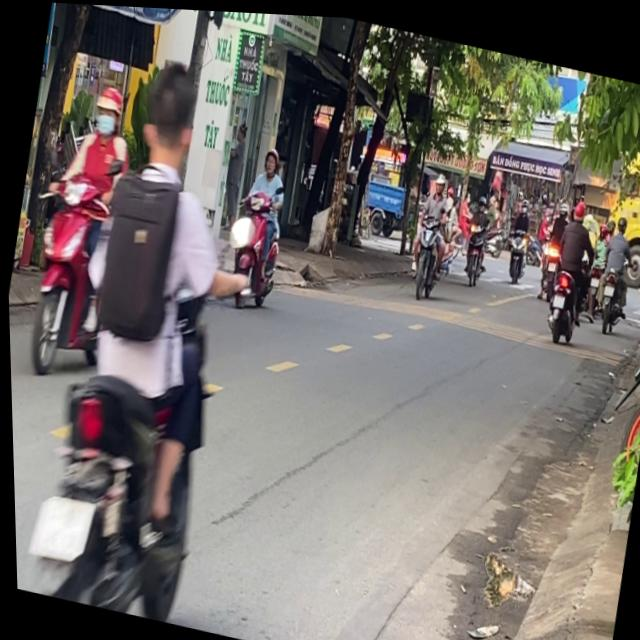helmet: (88, 81, 125, 136), (260, 142, 279, 173)
licenseplate: (1, 30, 283, 629), (9, 69, 145, 387), (213, 135, 298, 312)
motorcyclist: (131, 52, 207, 177)
nohelmet: (24, 490, 92, 563)
